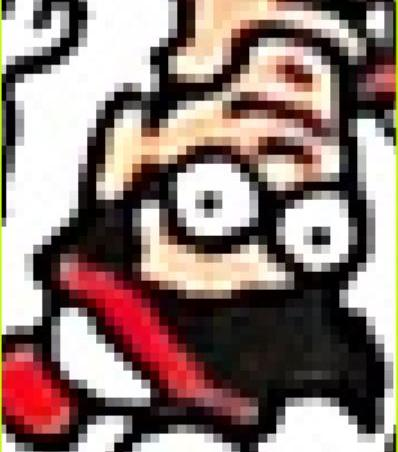waldos: (4, 3, 386, 448)
